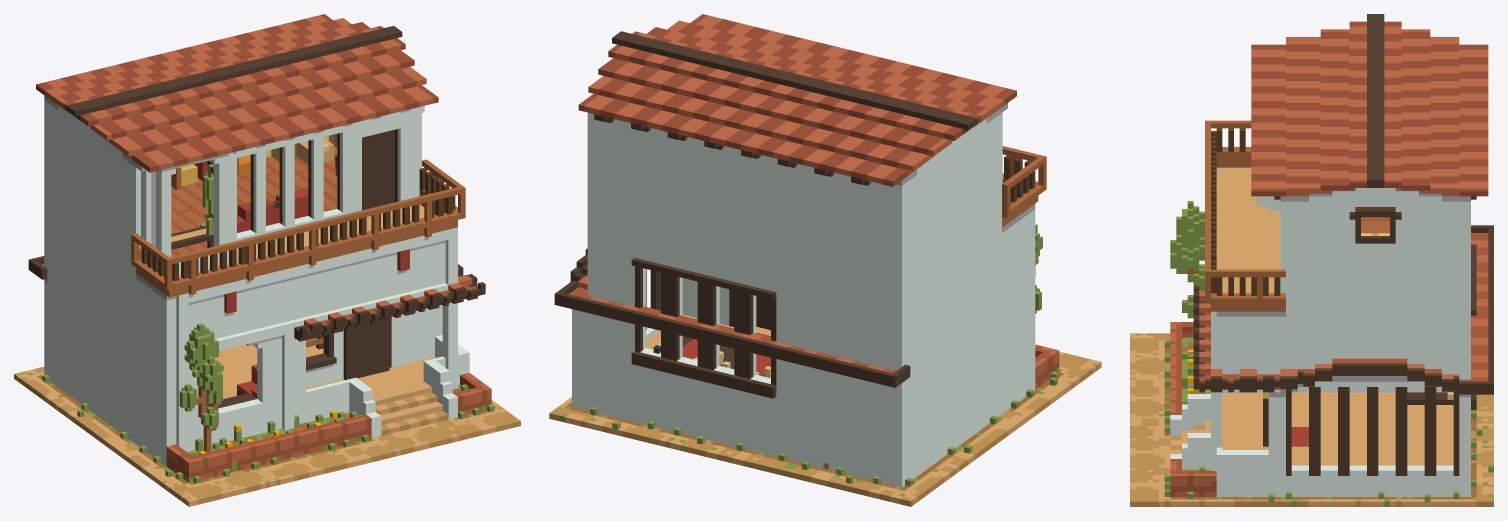
File: house.glb
3 views of the same model, side by side, from view 1: azimuth 30°, elevation 25°; view 2: azimuth 150°, elevation 25°; view 3: azimuth 270°, elevation 25° (orthographic). The views are drawn at different scales.
Visible parts, largest first — view 1: house2; view 2: house2; view 3: house2.
Part boxes in pixels (left/top/right/bottom): house2: left=14, top=14, right=520, bottom=506; house2: left=549, top=14, right=1101, bottom=506; house2: left=1130, top=14, right=1493, bottom=506.
Size of the model in its own units: 6.68 by 6 by 6.1.
Materials: 1 (1 with a texture image).
